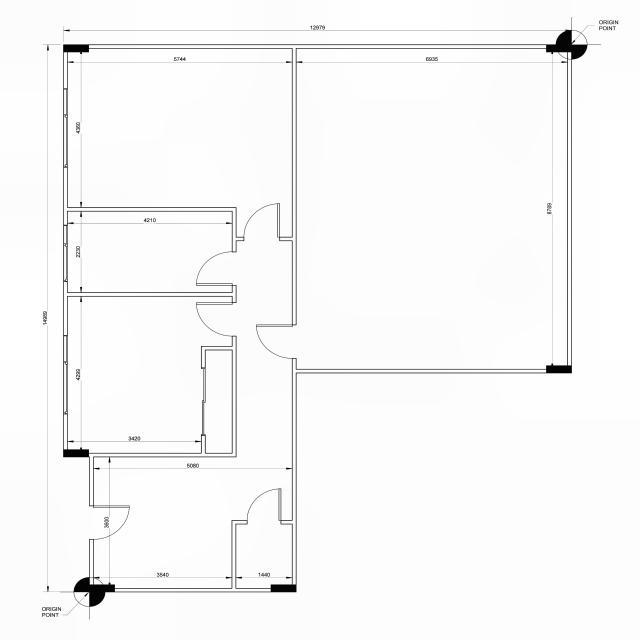Column: (270, 584, 298, 593), (546, 365, 572, 374), (89, 584, 115, 593), (63, 44, 89, 52), (546, 44, 572, 52), (63, 450, 89, 458)
Door: (195, 302, 238, 338), (242, 203, 280, 243), (88, 505, 130, 541), (194, 252, 237, 286), (256, 324, 298, 358), (246, 488, 282, 526)
Sliding Door: (200, 368, 207, 437)
Window: (62, 335, 68, 415), (63, 88, 68, 168), (62, 225, 68, 282)
